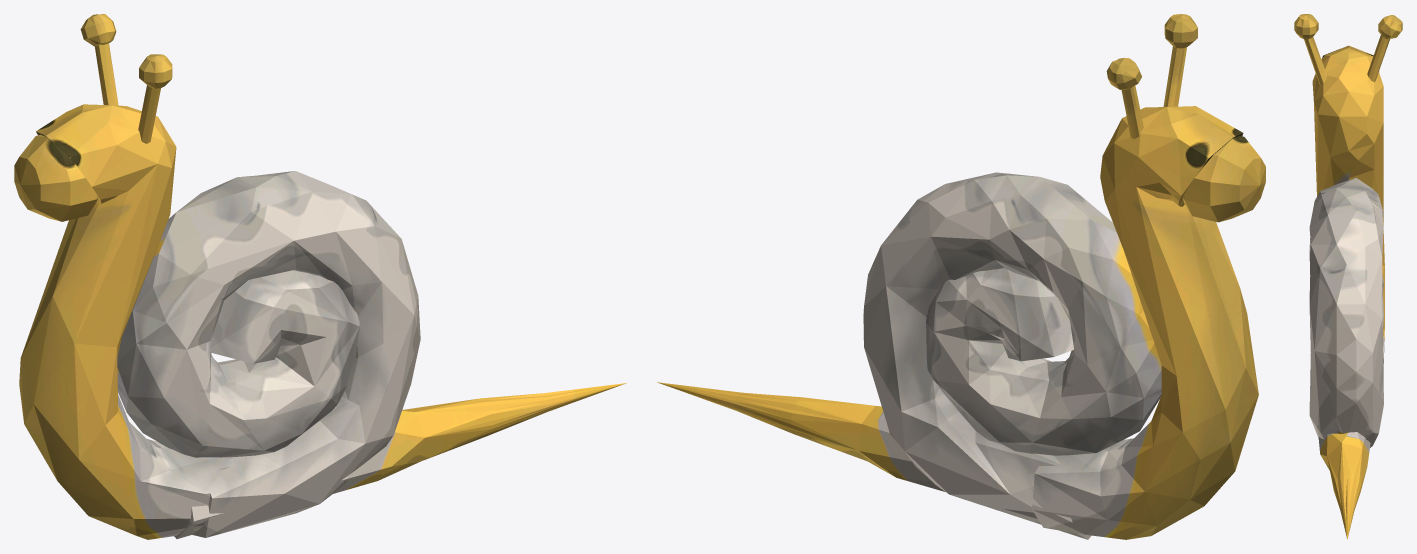
File: InvSnail.glb
3 views of the same model, side by side, from view 1: azimuth 30°, elevation 25°; view 2: azimuth 150°, elevation 25°; view 3: azimuth 270°, elevation 25° (orthographic). The views are drawn at different scales.
Parts seen in each view (by area): view 1: InvSnail; view 2: InvSnail; view 3: InvSnail.
Part boxes in pixels (x1,y1,x2,y2): InvSnail: (14,14,626,539); InvSnail: (657,14,1265,539); InvSnail: (1294,14,1402,539).
Bounding box in the file's own units: 21.21 × 17.22 × 4.46.
1 material, 1 textured.
